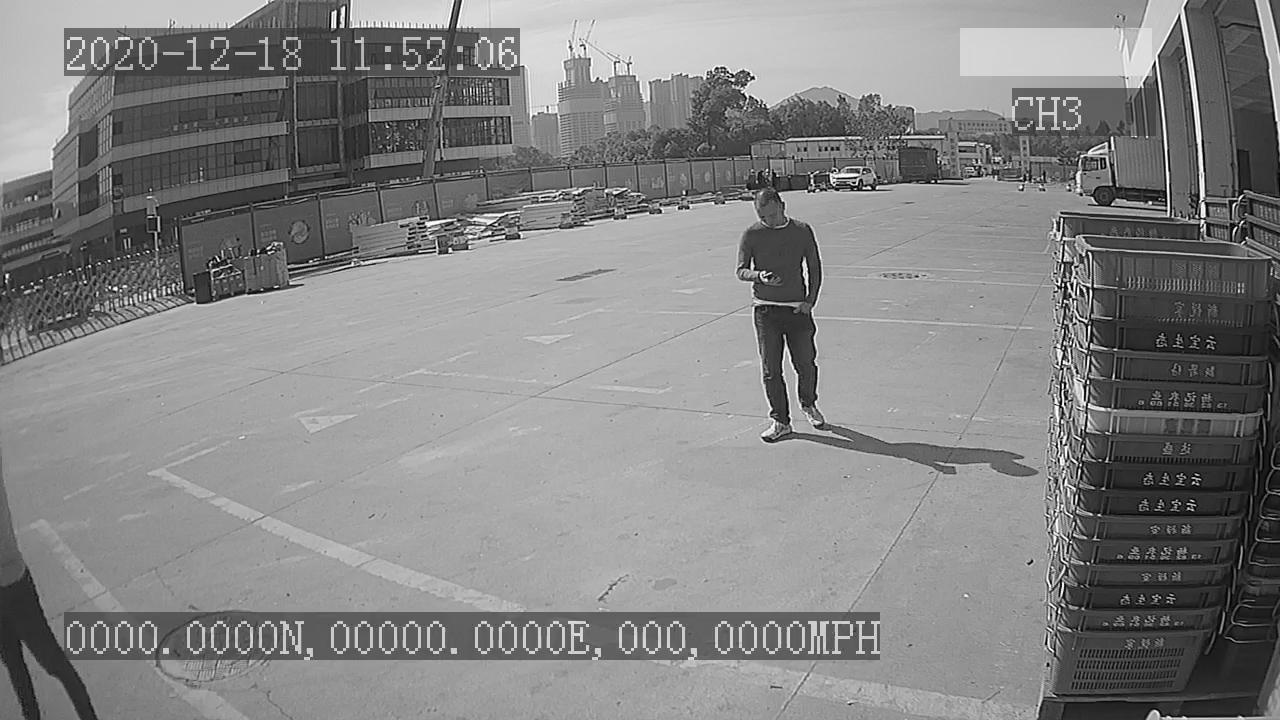person: (729, 183, 831, 449)
